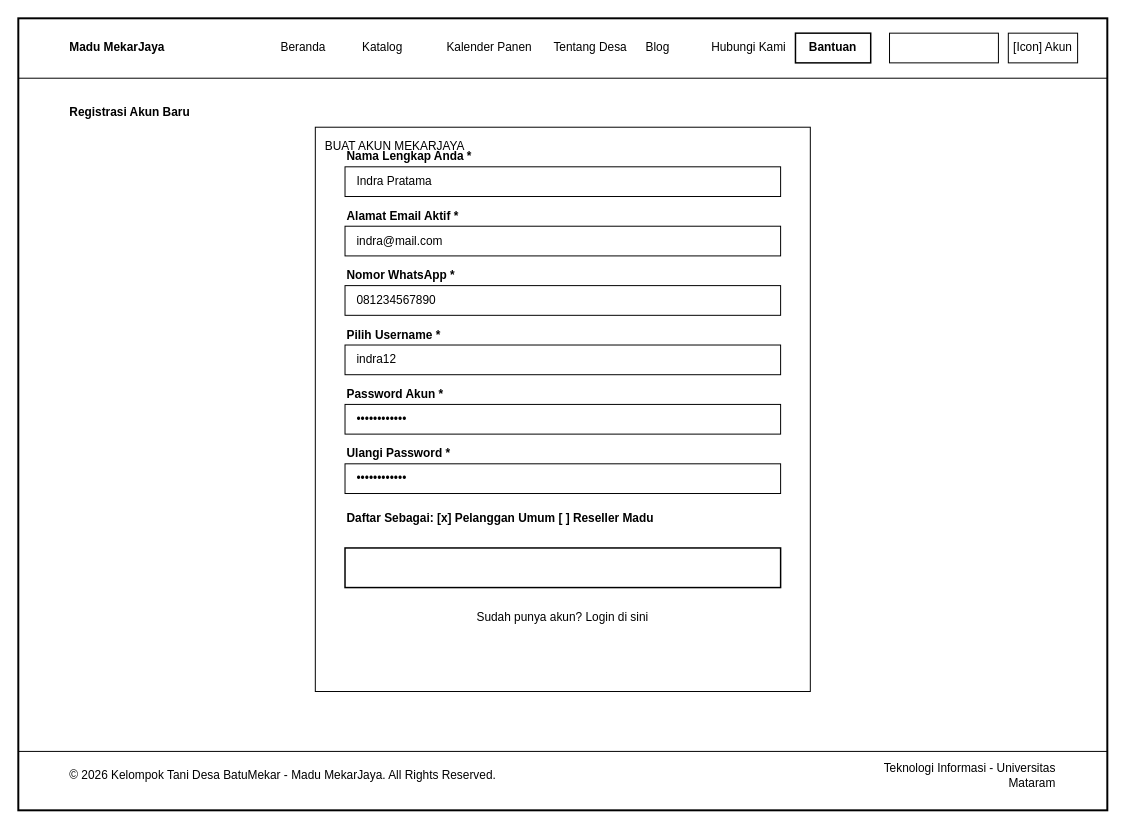
Image size: 1125x828. Some labels were removed from this diagram. The centre of each missing label's shape, as x and y in pixels:
"[Icon] Keranjang (2)" goes at pixel 943 47.
"Daftar Sekarang" goes at pixel 562 567.
